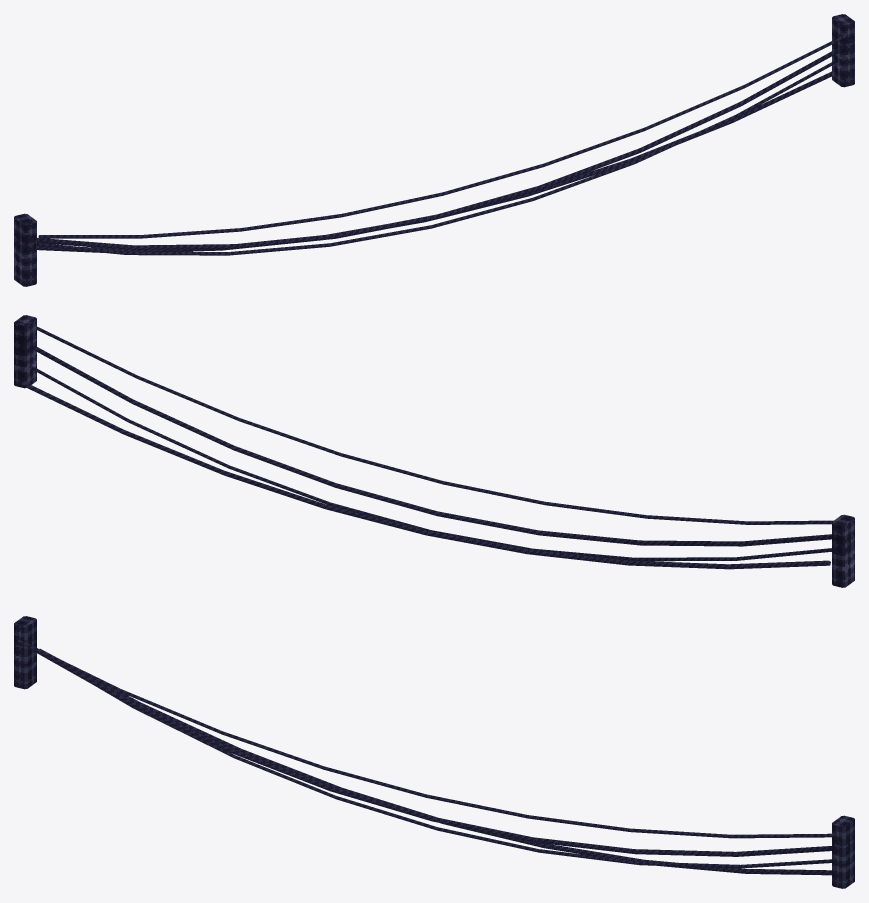
The model's file is cytech.cables.glb.
3 views of the same model, one above another, from view 1: azimuth 30°, elevation 25°; view 2: azimuth 150°, elevation 25°; view 3: azimuth 330°, elevation 25° (orthographic).
Visible parts, largest first — view 1: kit_cables; view 2: kit_cables; view 3: kit_cables.
Boxes of the visible parts, left/top/right/bottom form: kit_cables: left=14, top=14, right=854, bottom=286; kit_cables: left=14, top=315, right=854, bottom=587; kit_cables: left=14, top=616, right=854, bottom=888.
Bounding box in the file's own units: 12.3 × 1.57 × 0.6.
2 materials, 2 textured.
